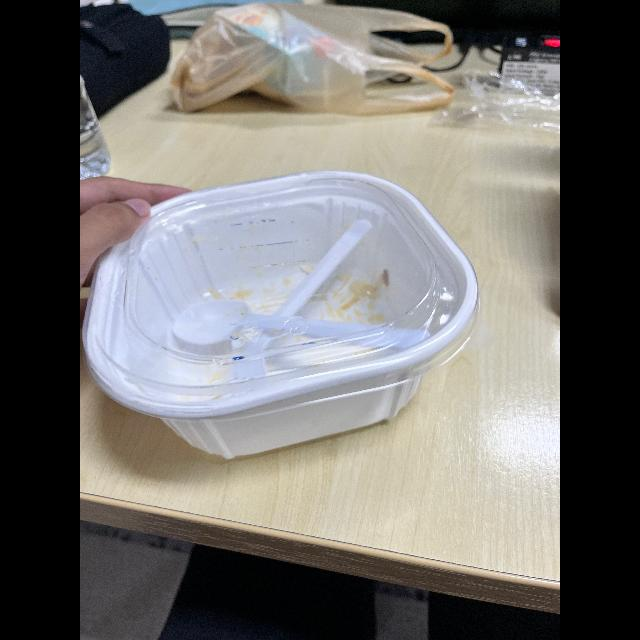plastic_box: (86, 162, 486, 458)
